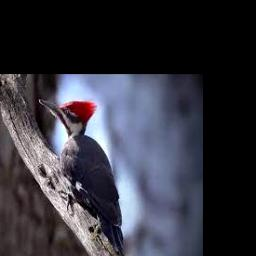Woodpecker: (39, 99, 125, 255)
